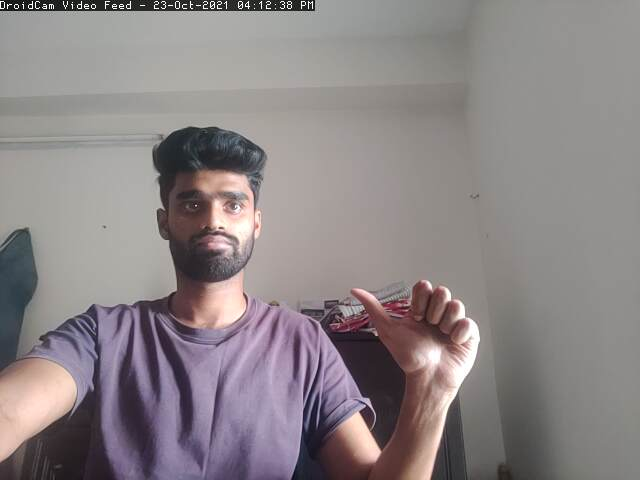ThumbsUp: (348, 278, 482, 387)
